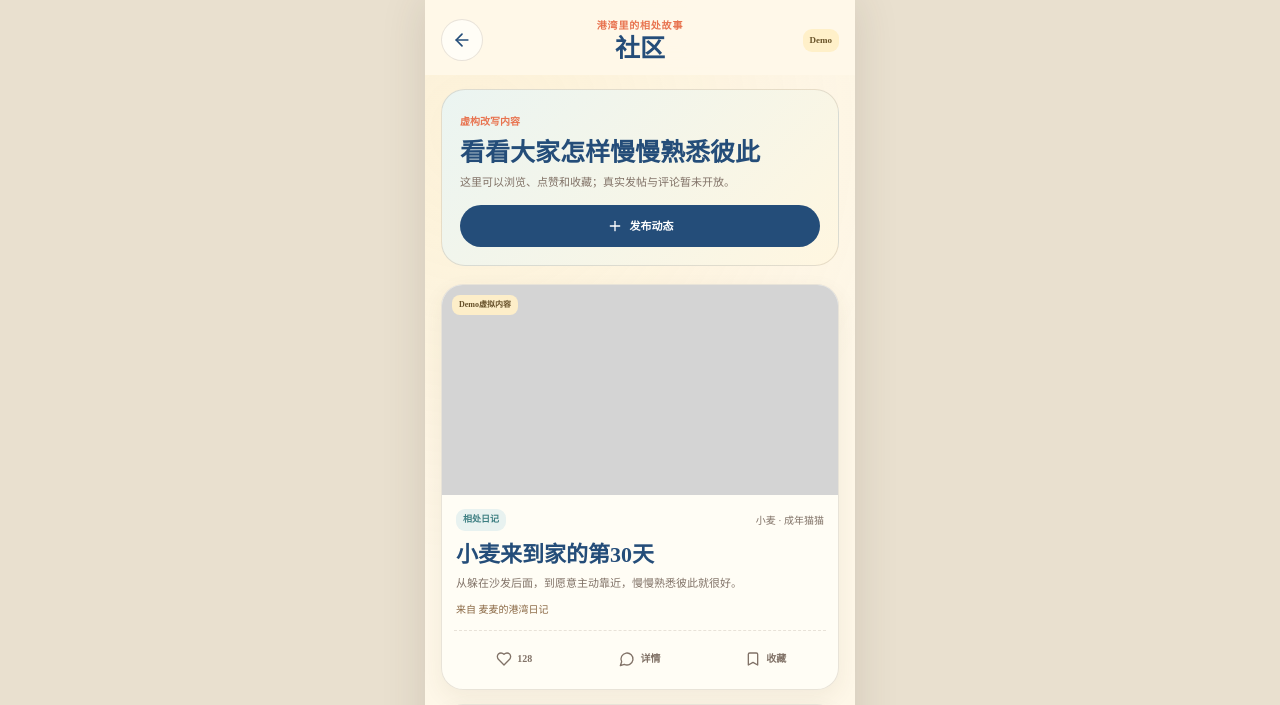
Scenario: T38社区原型 › 发布动态只显示统一Demo提示，不产生发布成功状态
This screenshot has width=1280, height=705.
Click the button "发布动态" at (640, 226), box [460,205,820,247]
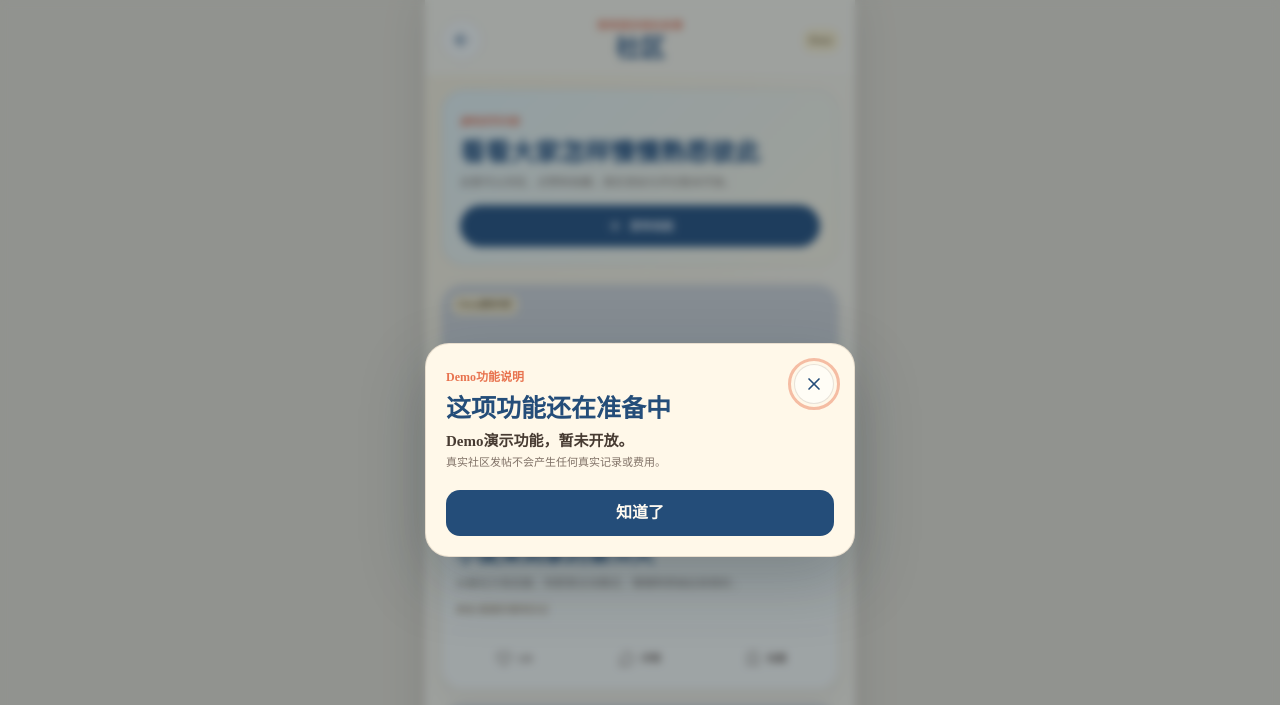
Expected: the text "Demo演示功能，暂未开放。" is shown, [446,433,634,449]
